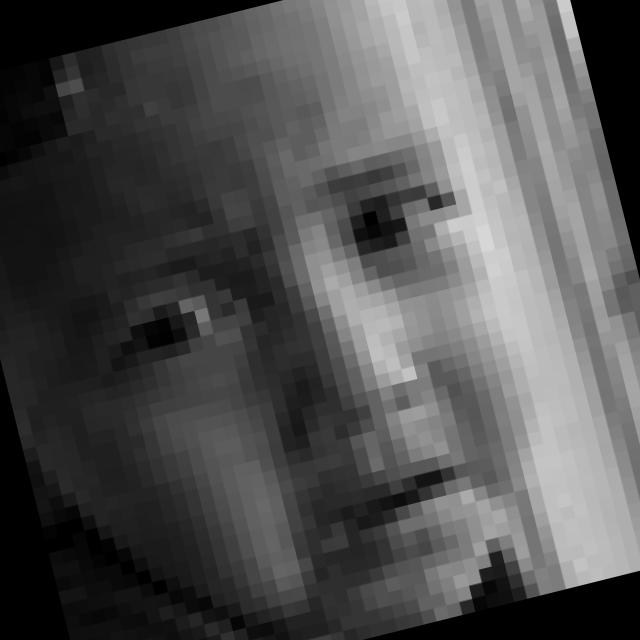sad: (23, 81, 554, 640)
